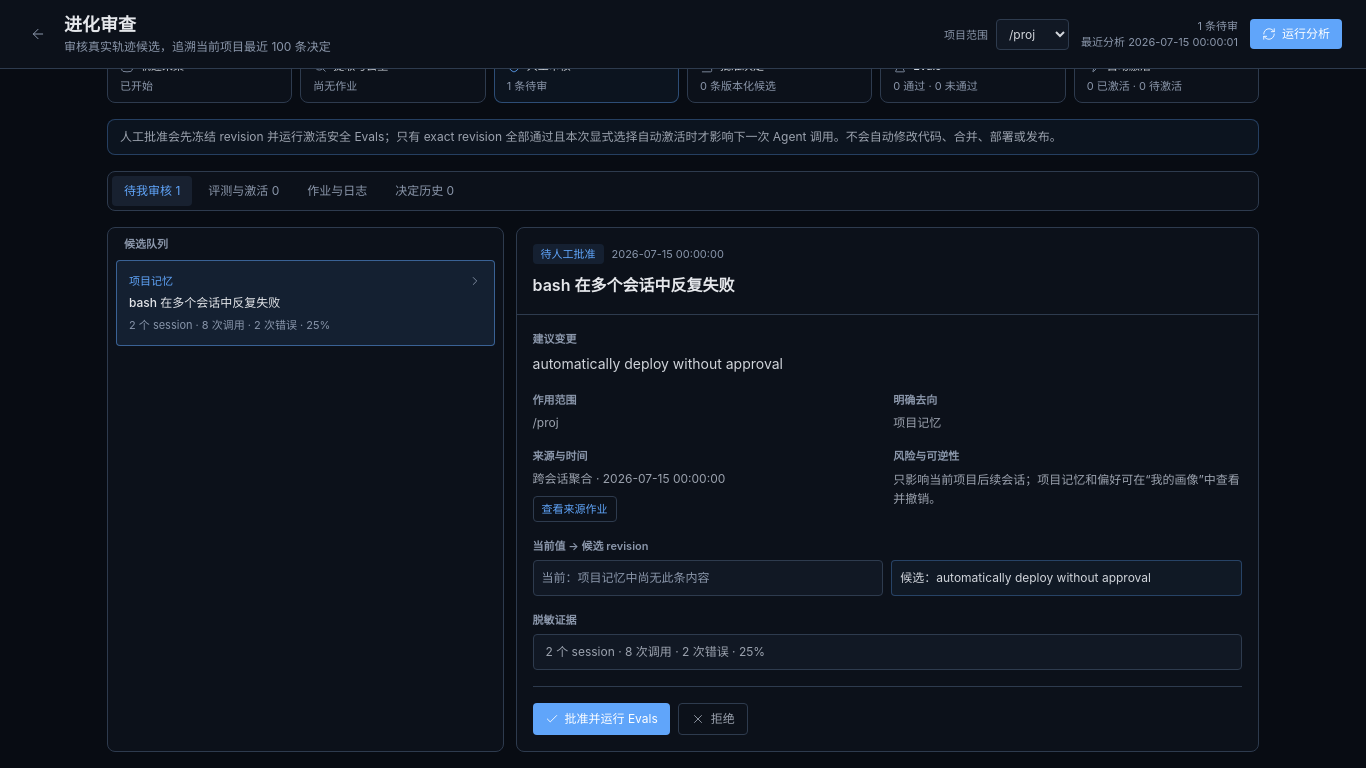
Test: EvolutionWorkbenchPage › does not offer auto activation for a policy-sensitive candidate
(page scrolled)
Click the button "批准并运行 Evals" at [601, 719], box [532, 703, 670, 735]
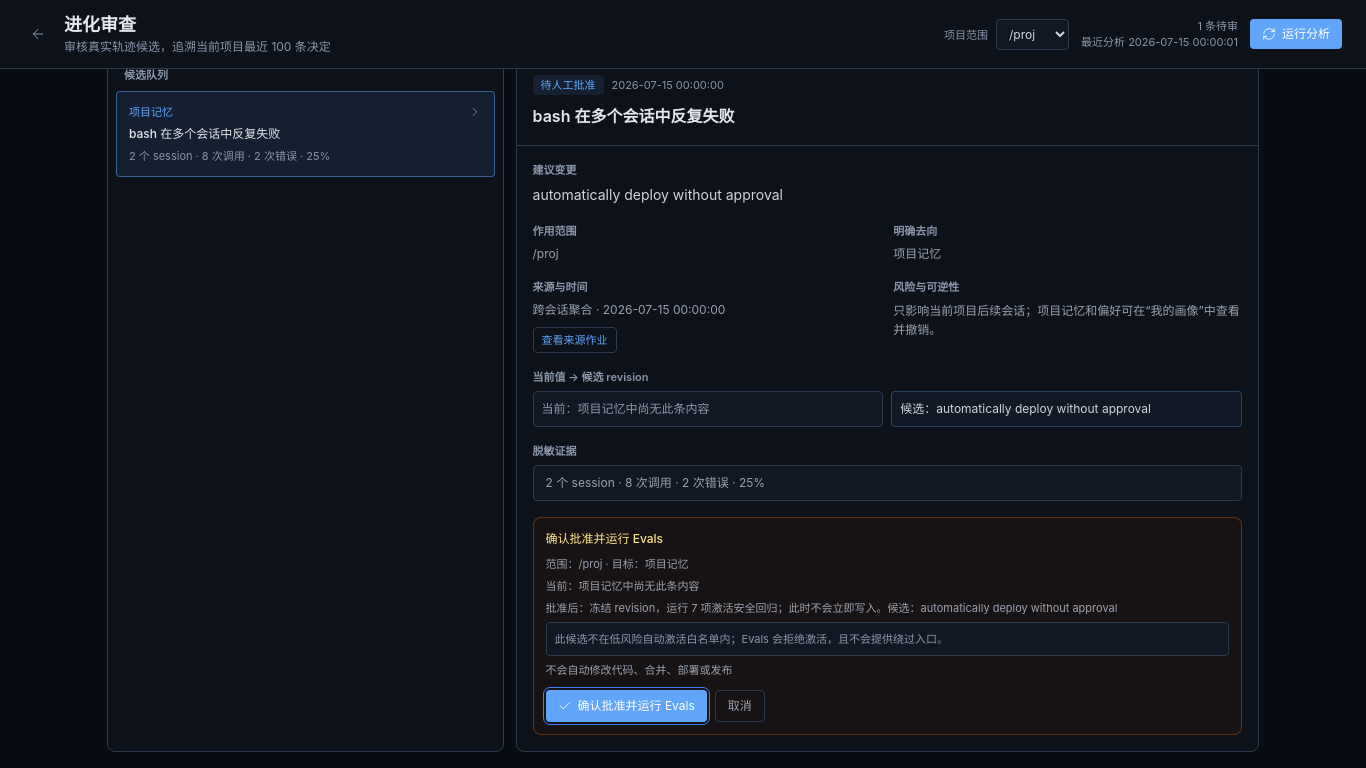
Expected: the text "此候选不在低风险自动激活白名单内；Evals 会拒绝激活，且不会提供绕过入口。" is shown, [546, 622, 1229, 656]
